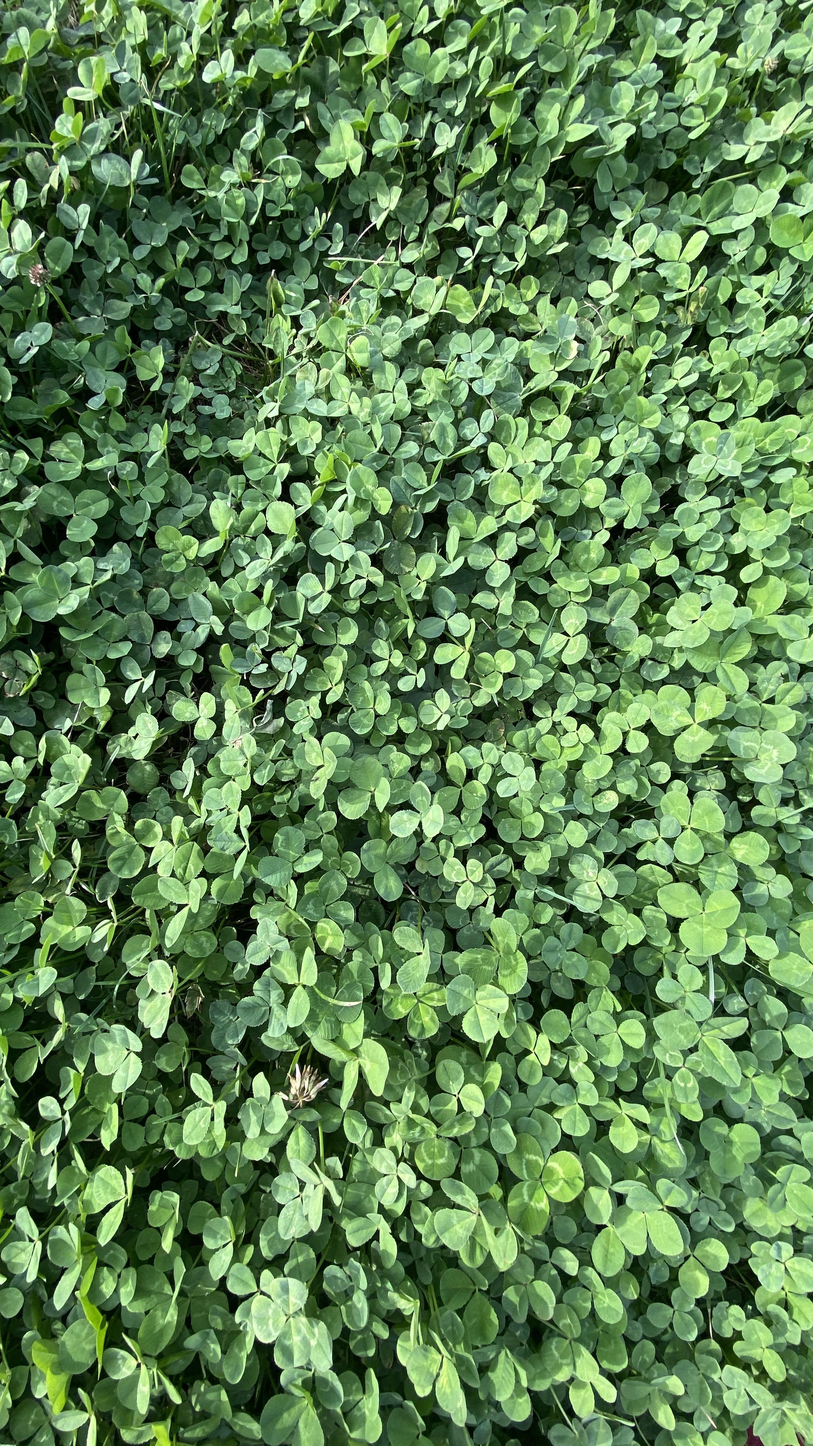5-Leaf-Clovers: (237, 99, 269, 231)
